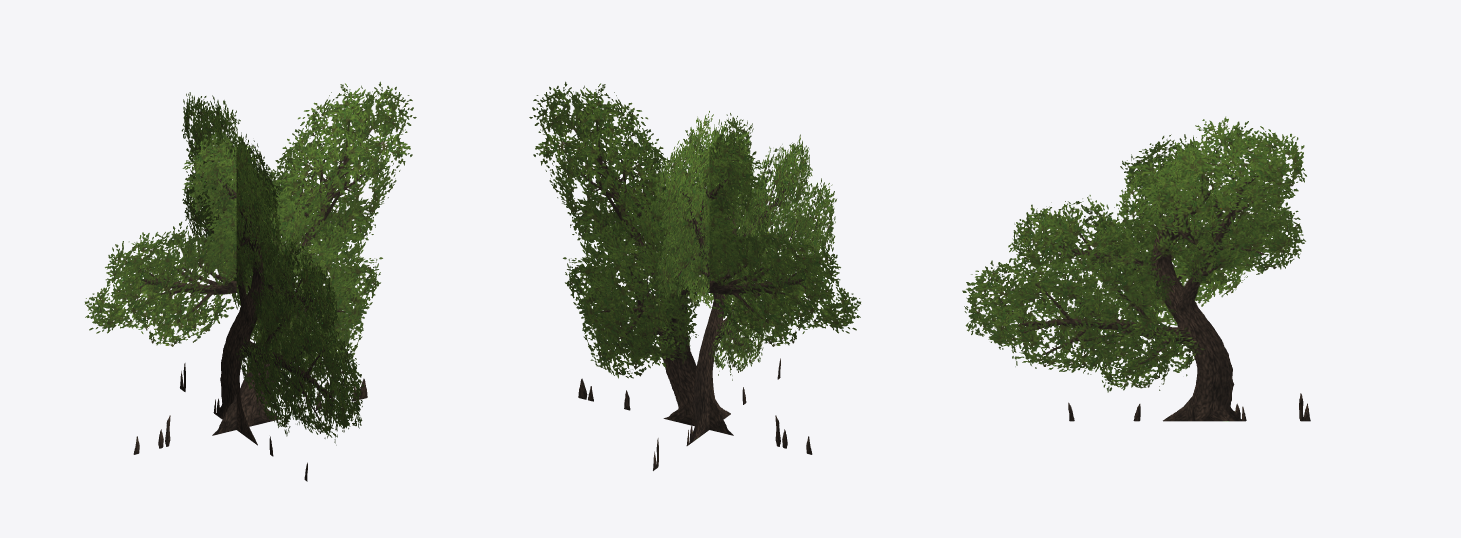
File: Oak_04.lod3.glb
3 renders of one model, left to right at view 1: azimuth 30°, elevation 25°; view 2: azimuth 150°, elevation 25°; view 3: azimuth 270°, elevation 25°, orthographic. The views are drawn at different scales.
Parts seen in each view (by area): view 1: Billboard; view 2: Billboard; view 3: Billboard.
Part boxes in pixels (x1,y1,x2,y2): Billboard: (85,81,416,481); Billboard: (529,81,860,470); Billboard: (962,116,1310,421).
Bounding box in the file's own units: 16.53 × 11.43 × 16.53.
1 material, 1 textured.
